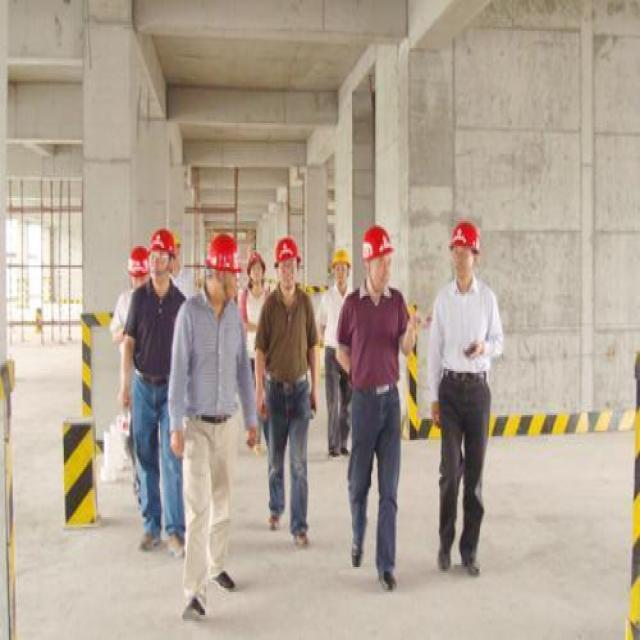hat: (204, 225, 241, 308), (446, 214, 482, 287), (360, 221, 397, 290), (150, 225, 184, 286), (274, 229, 302, 297), (127, 242, 151, 290), (331, 246, 354, 296), (243, 248, 267, 290)
